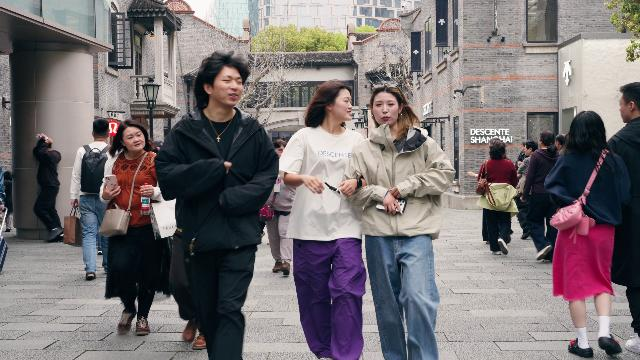person: (153, 50, 281, 360), (341, 82, 456, 360), (276, 79, 370, 360), (545, 111, 632, 358), (98, 119, 173, 336), (605, 82, 640, 354), (70, 118, 114, 281), (467, 138, 520, 255), (518, 130, 561, 262), (31, 135, 65, 243), (514, 139, 539, 239)
